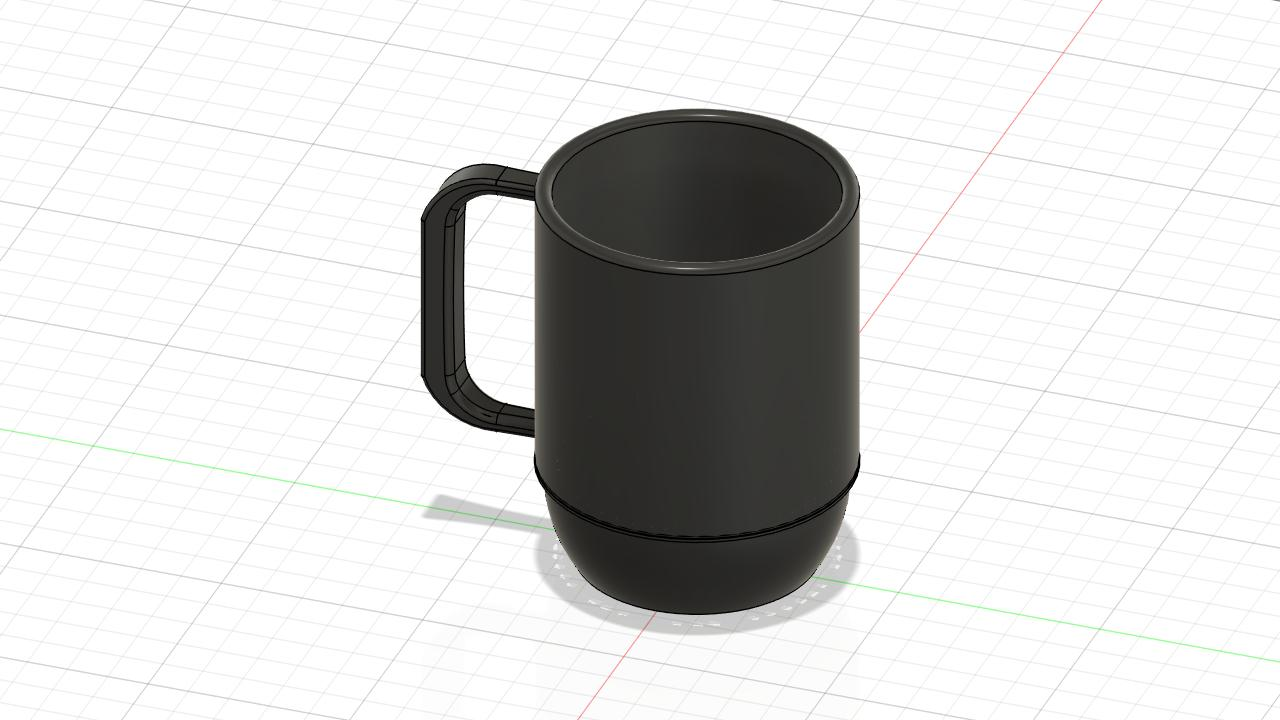mug-real100-3d100: (421, 110, 860, 613)
